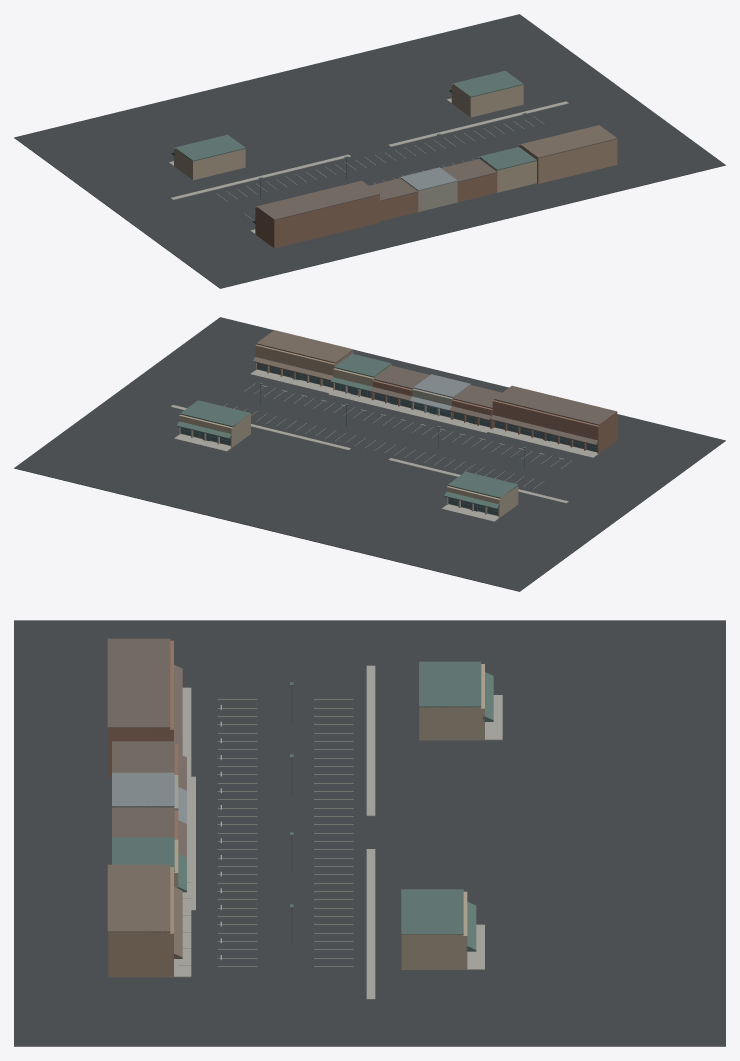
The model's file is commercial-streetscape.glb.
3 views of the same model, one above another, from view 1: azimuth 30°, elevation 25°; view 2: azimuth 150°, elevation 25°; view 3: azimuth 270°, elevation 25° (orthographic). The views are drawn at different scales.
Visible parts, largest first — view 1: Pavement, Walls, Trim, Concrete; view 2: Pavement, Trim, Walls, Concrete, Windows, Paint; view 3: Pavement, Trim, Walls, Concrete, Paint.
Part boxes in pixels (bbox=[...]): Pavement: bbox=[14, 14, 725, 288]; Walls: bbox=[174, 84, 617, 248]; Trim: bbox=[171, 70, 617, 223]; Concrete: bbox=[169, 98, 568, 235]; Pavement: bbox=[14, 317, 725, 591]; Trim: bbox=[176, 330, 617, 514]; Walls: bbox=[179, 344, 617, 517]; Concrete: bbox=[170, 369, 599, 521]; Windows: bbox=[180, 363, 597, 515]; Paint: bbox=[224, 384, 571, 488]; Pavement: bbox=[14, 620, 725, 1046]; Trim: bbox=[107, 638, 493, 965]; Walls: bbox=[108, 640, 484, 977]; Concrete: bbox=[170, 665, 502, 999]; Paint: bbox=[218, 699, 353, 966].
Bounding box in the file's own units: 460 × 25.65 × 325.
